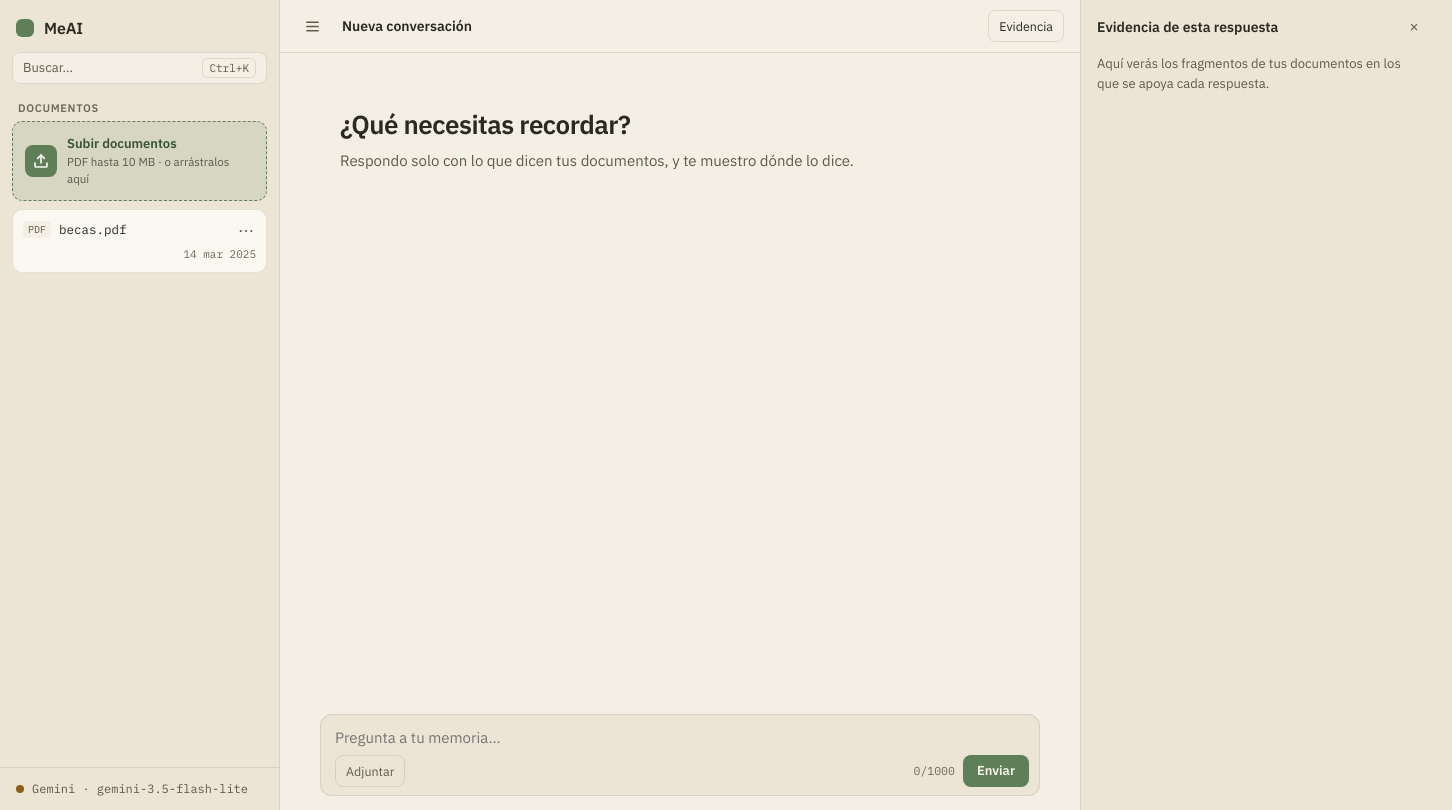
Test: an answer without evidence shows the "No recuerdo" card and no chips
This screenshot has width=1452, height=810.
Expected: the element "becas.pdf" is shown, 12,208 -> 267,273
Type "¿Capital de Francia?" into the text box named "Escribe tu pregunta" at (682, 738), box 335,724 -> 1029,751
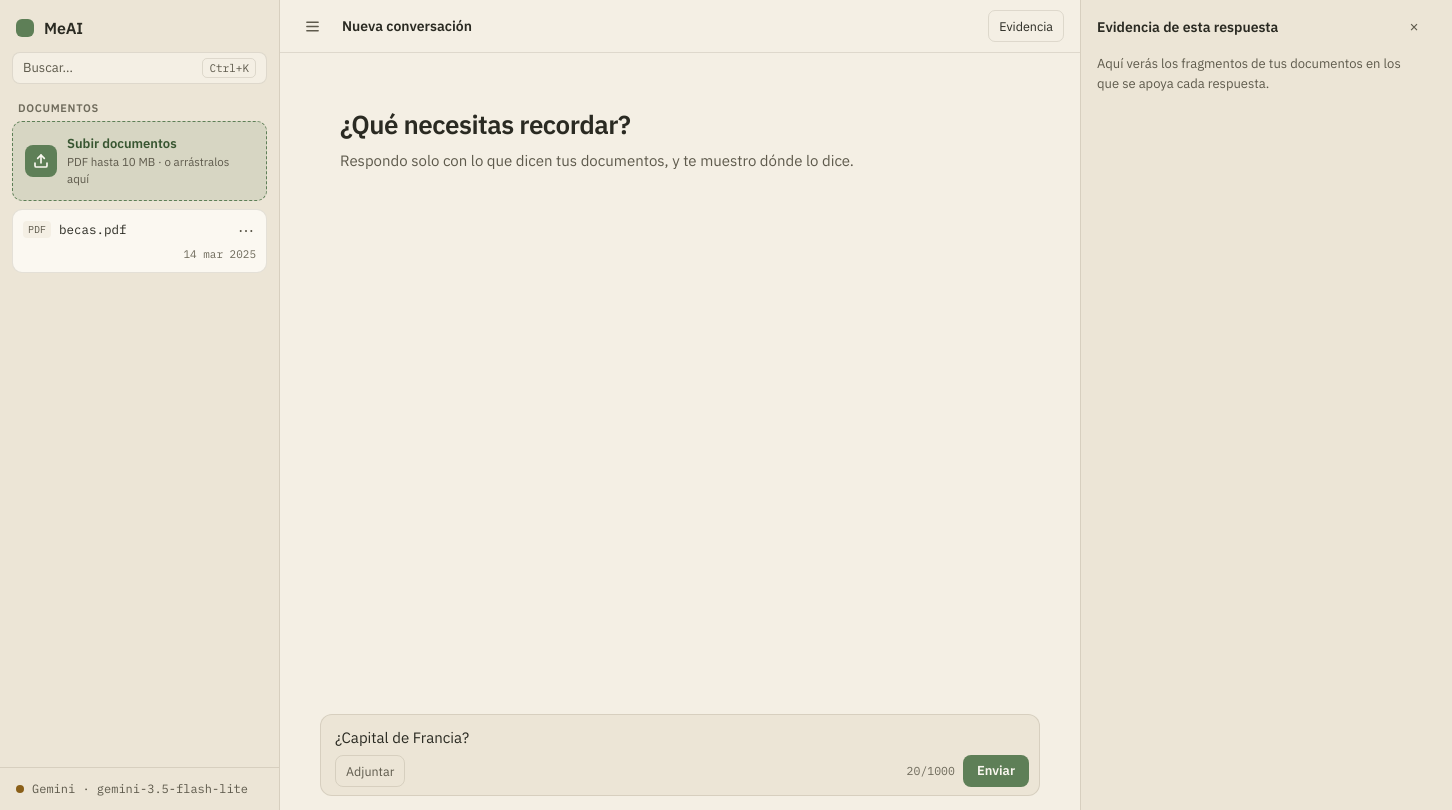
Click the button with aria-label "Enviar pregunta" at (996, 771), box 963,755 -> 1029,787
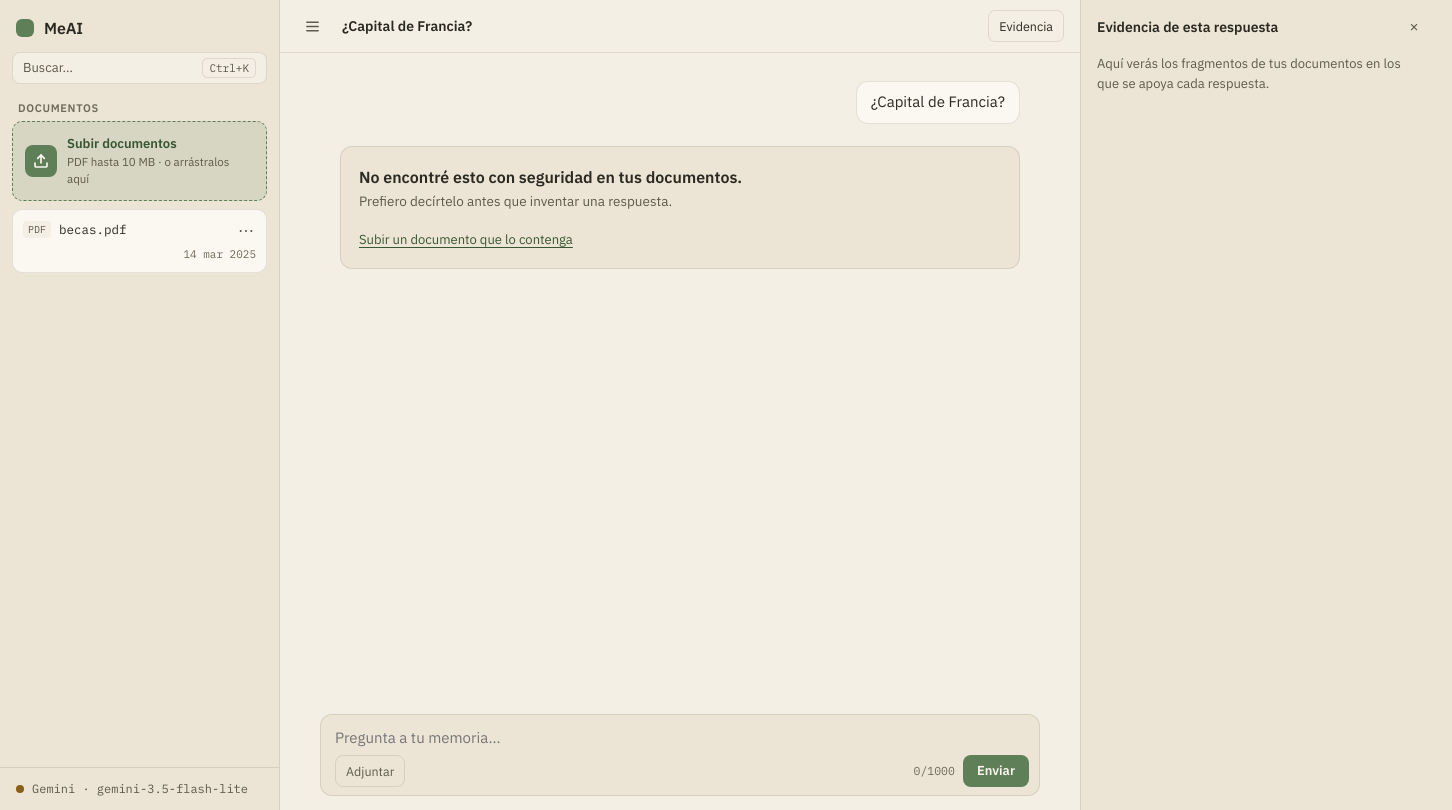
Expected: the text "No encontré esto con seguridad en tus documentos." is shown, 359,166 -> 742,186
Expected: the text "Prefiero decírtelo antes que inventar una respuesta." is shown, 359,192 -> 672,210
